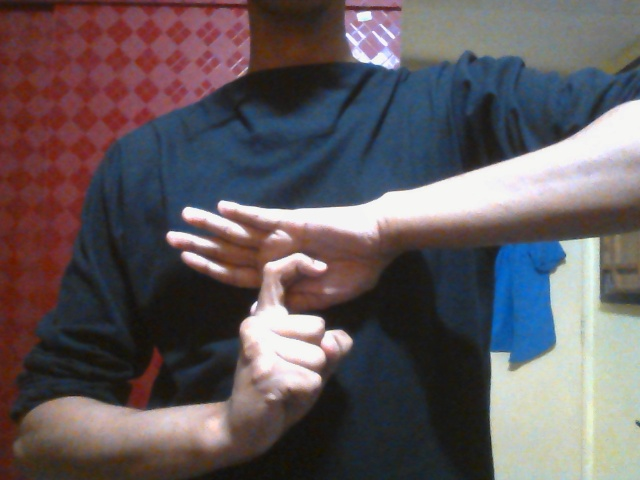R: (164, 190, 394, 435)
